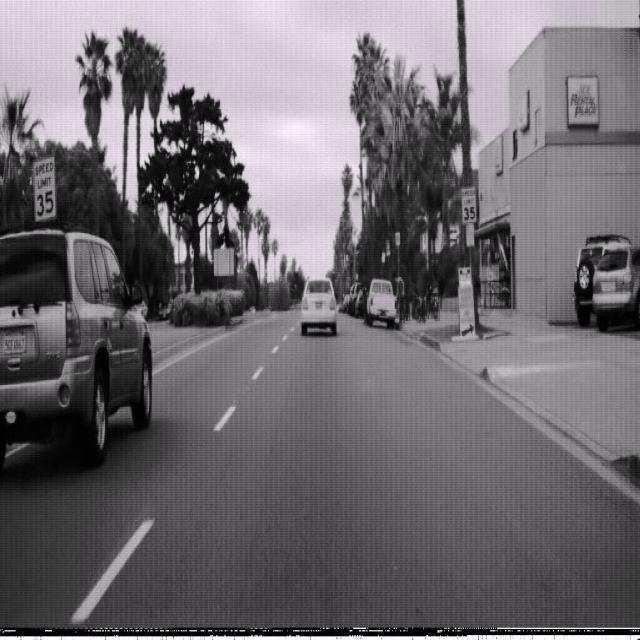speedLimit35: (32, 153, 56, 222), (460, 184, 478, 224)
